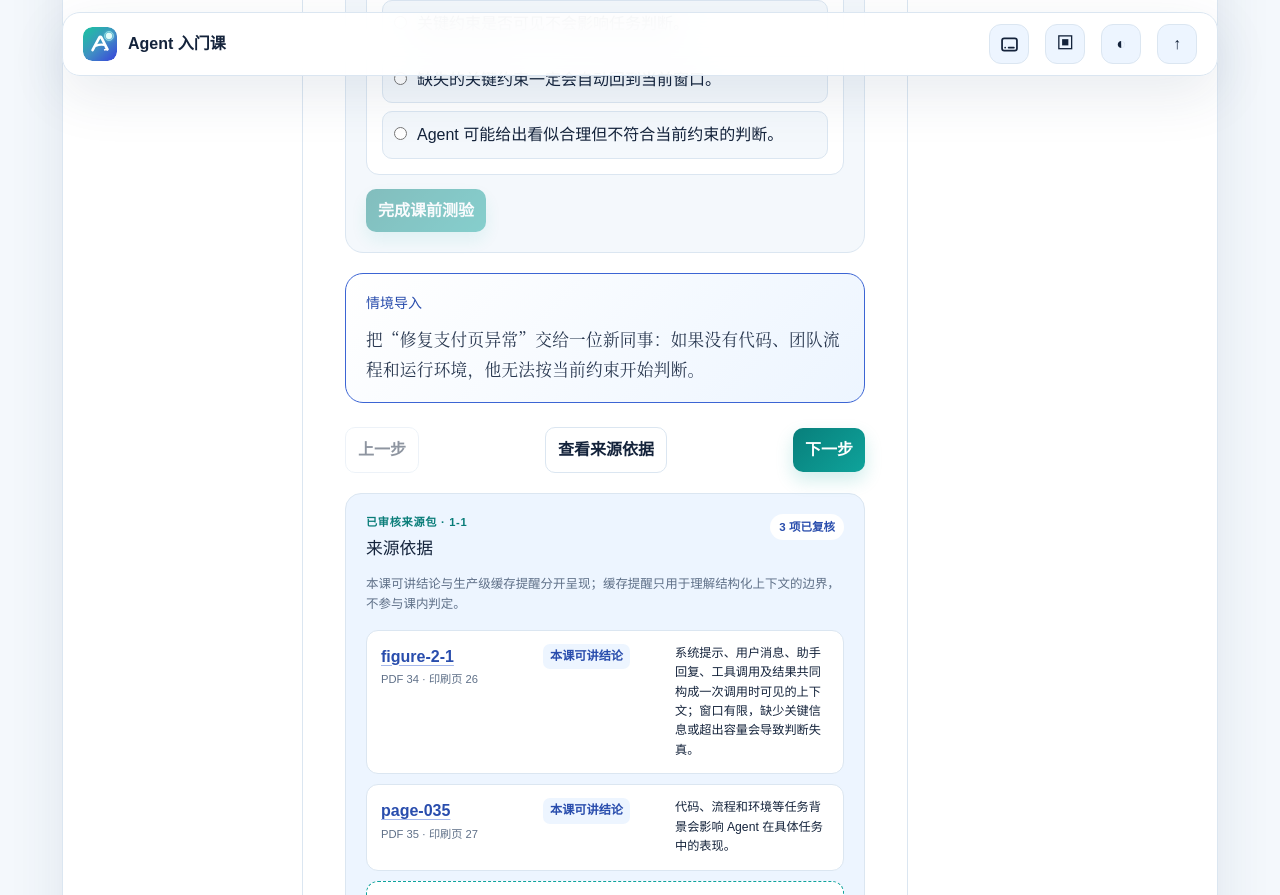
Test case: ThemeToggle › shows a nonblocking message while navigation continues when saving fails
(page scrolled)
Step 1. Click the button "下一步" → (829, 450), box x1=793 y1=428 x2=865 y2=472
(page scrolled)
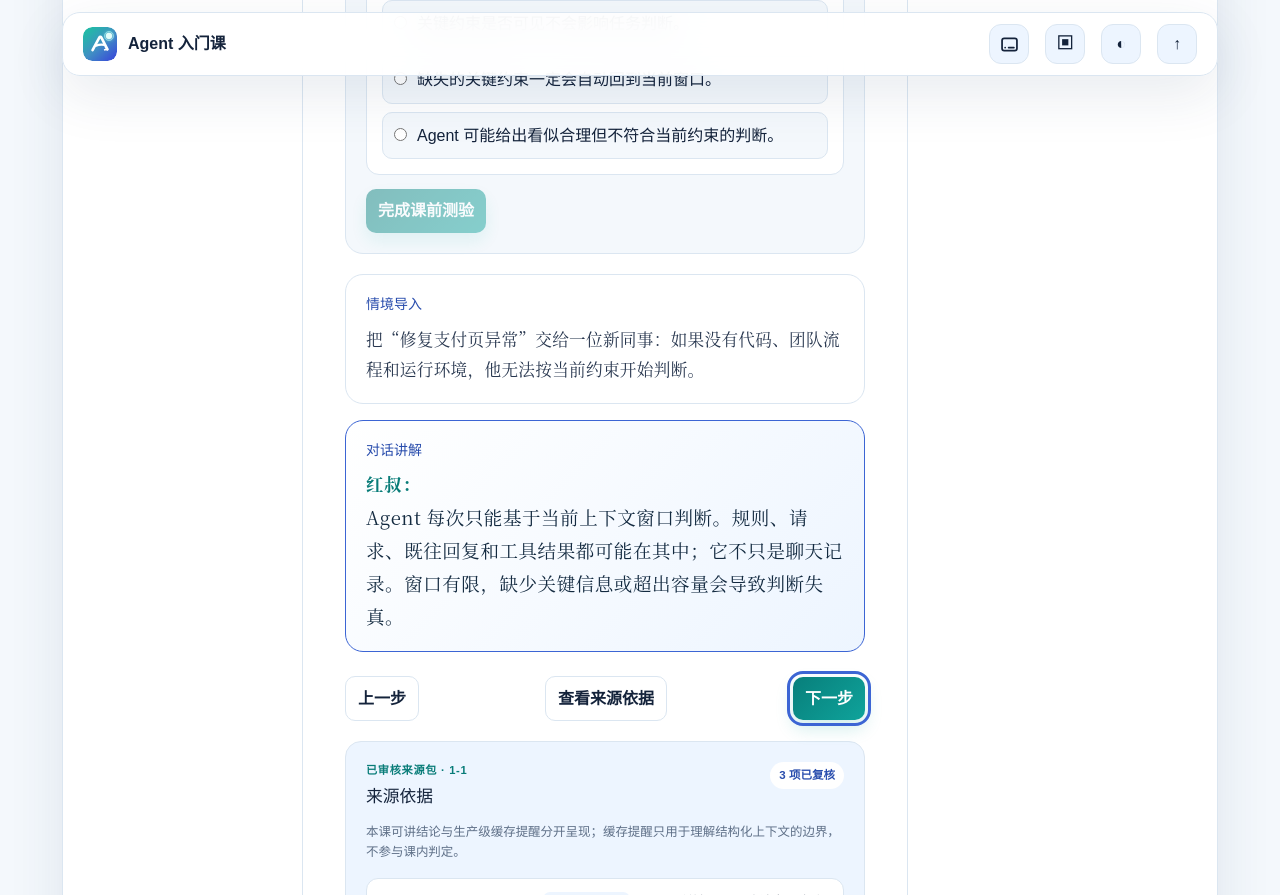
Now the text "Agent 每次只能基于当前上下文窗口判断。规则、请求、既往回复和工具结果都可能在其中；它不只是聊天记录。窗口有限，缺少关键信息或超出容量会导致判断失真。" is shown, box x1=366 y1=501 x2=844 y2=633
